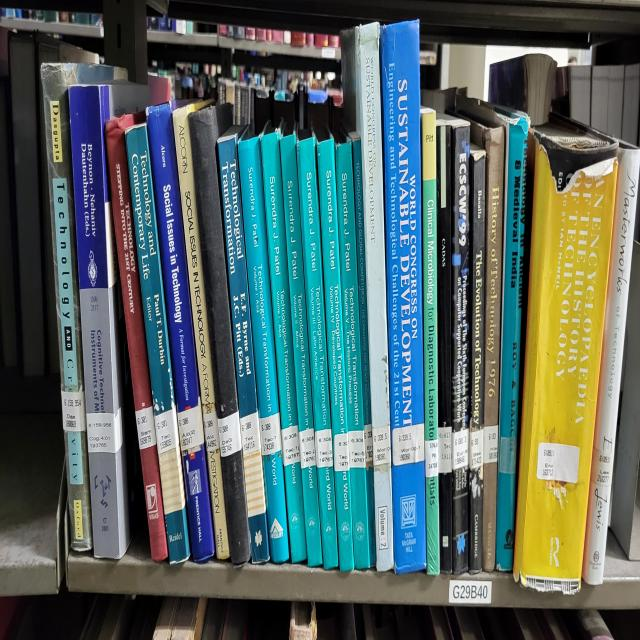Book: (514, 124, 618, 593), (40, 54, 128, 552), (69, 78, 150, 560), (146, 106, 215, 563), (341, 22, 394, 571), (125, 124, 190, 563), (189, 106, 251, 565), (105, 114, 168, 563), (172, 103, 230, 560), (582, 141, 640, 584), (380, 22, 426, 574), (218, 127, 269, 563), (238, 135, 289, 563), (261, 130, 306, 563), (296, 138, 339, 568), (280, 135, 322, 565), (316, 141, 354, 571), (471, 122, 505, 571), (496, 116, 529, 571), (335, 143, 370, 568), (348, 133, 376, 565), (449, 119, 470, 574), (421, 108, 440, 576), (436, 122, 452, 574), (469, 146, 485, 574)
Label: (536, 444, 580, 484), (86, 409, 122, 452), (392, 422, 425, 465), (178, 398, 204, 452), (155, 406, 179, 455), (61, 390, 86, 433), (218, 411, 241, 457), (590, 446, 614, 487), (240, 411, 261, 457), (260, 411, 281, 455), (135, 406, 156, 449), (202, 406, 220, 452), (372, 425, 391, 468), (281, 425, 300, 465), (452, 427, 469, 471), (299, 427, 316, 468), (315, 427, 332, 468), (469, 427, 484, 471), (348, 430, 365, 468), (438, 427, 452, 473), (499, 436, 516, 473), (334, 433, 350, 471), (425, 438, 439, 479), (484, 425, 499, 463), (364, 425, 374, 468)
